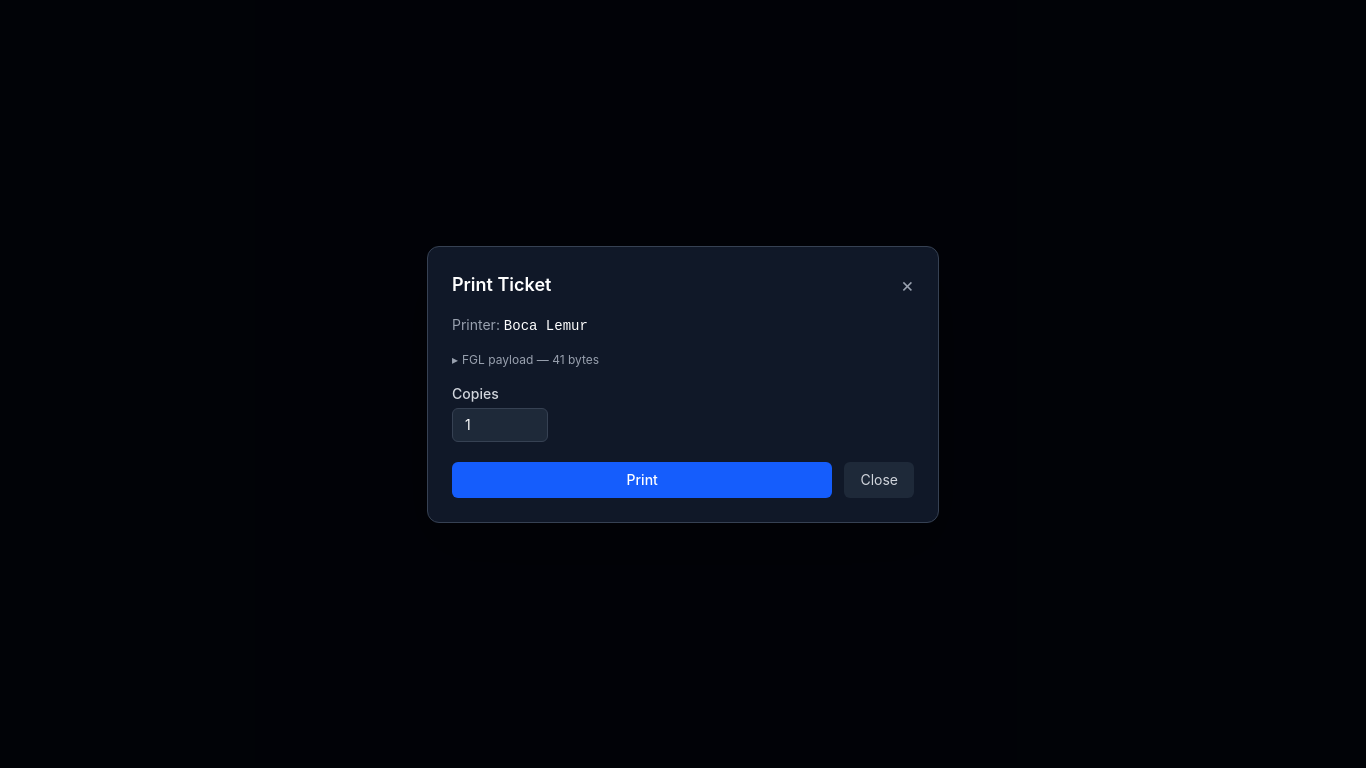
Test: PrintDialog › disables Print button while printing is in progress
Click the button "Print" at (642, 480), box [452, 462, 832, 498]
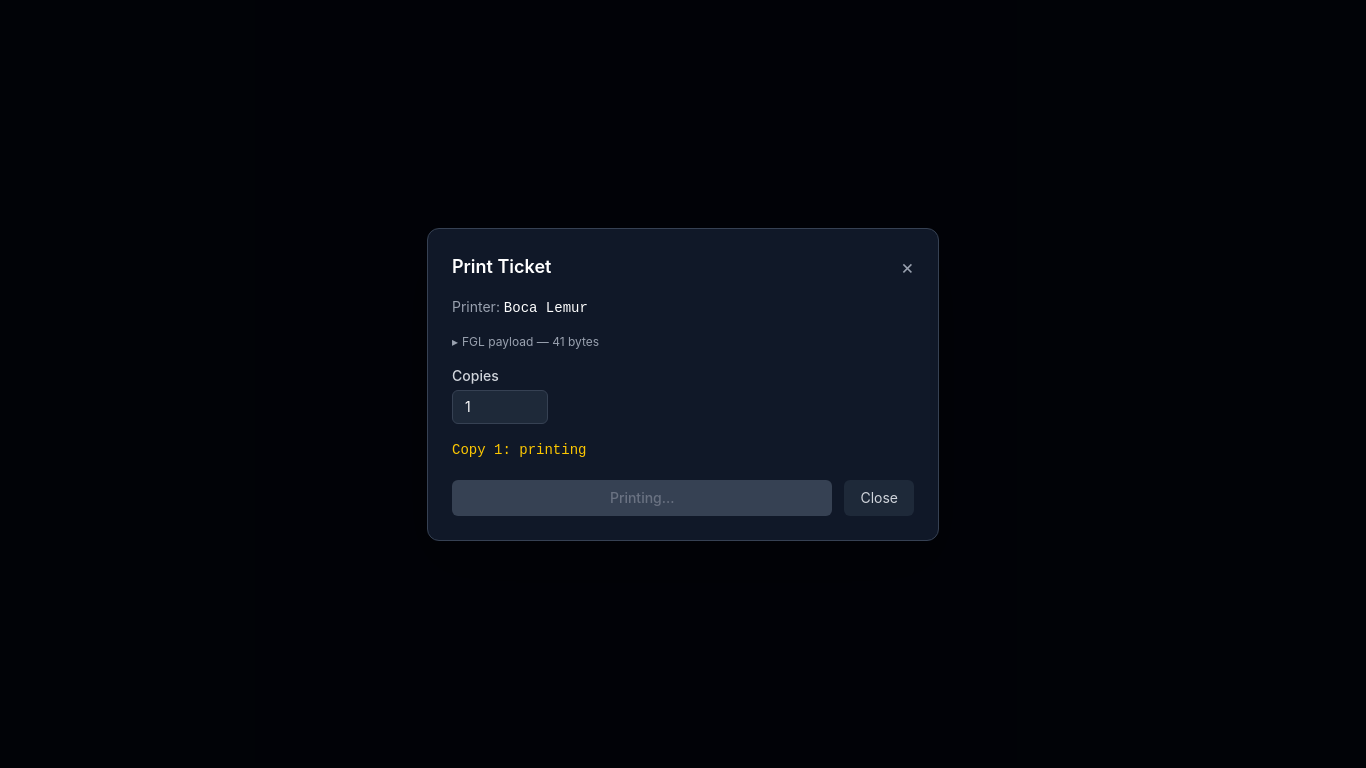
Result: the button "Printing…" is disabled at [452, 480, 832, 516]
